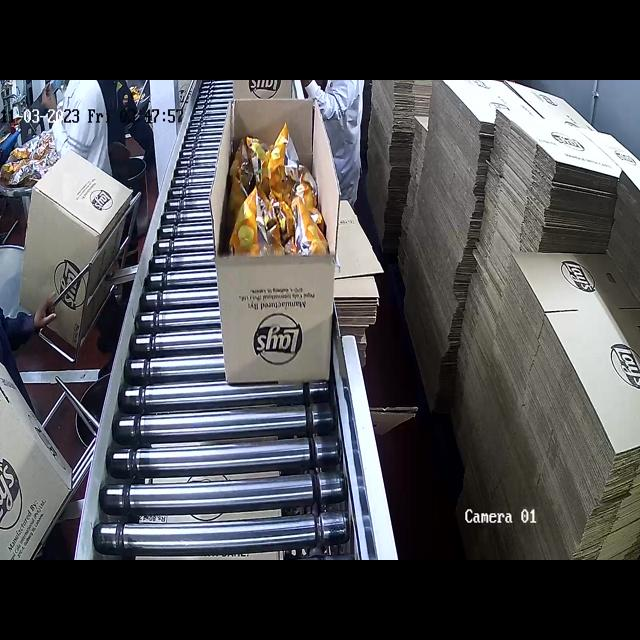cheese: (242, 136, 332, 261)
